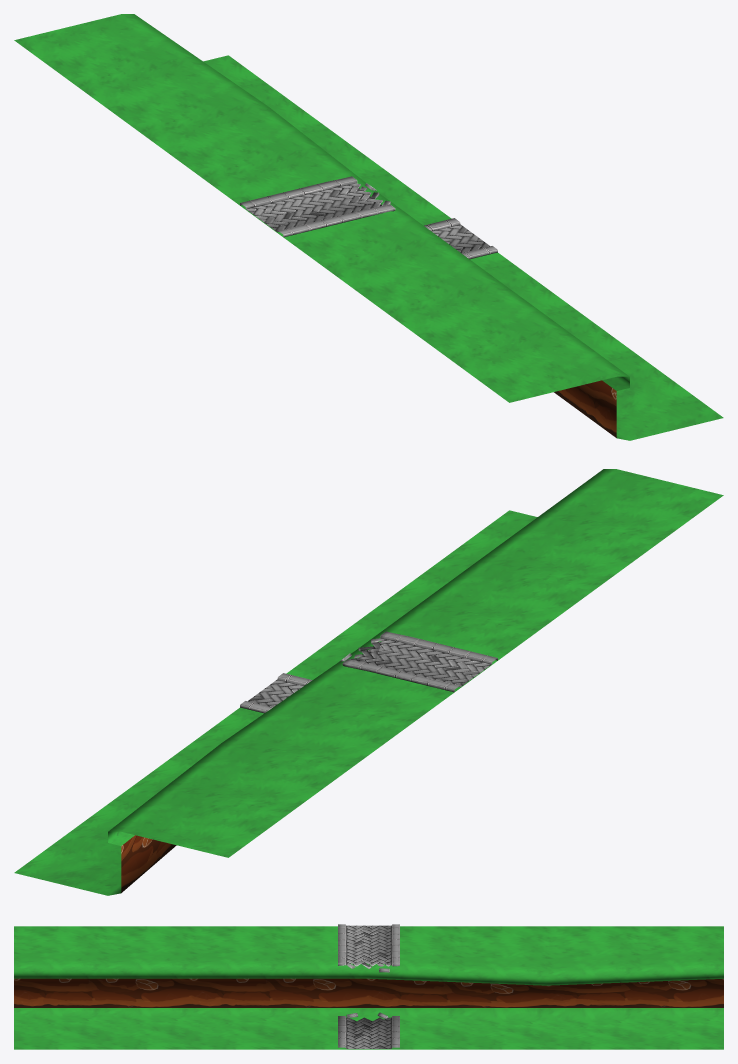
File: Terrain Broken Falling 3m.fbx
3 renders of one model, top to bottom at view 1: azimuth 30°, elevation 25°; view 2: azimuth 150°, elevation 25°; view 3: azimuth 270°, elevation 25°, orthographic. The views are drawn at different scales.
Parts seen in each view (by area): view 1: Terrain, Road; view 2: Terrain, Road; view 3: Terrain, Road.
Part boxes in pixels (bbox=[...]): Terrain: bbox=[14, 14, 723, 440]; Road: bbox=[240, 176, 497, 259]; Terrain: bbox=[14, 469, 723, 895]; Road: bbox=[240, 631, 497, 713]; Terrain: bbox=[14, 926, 723, 1049]; Road: bbox=[338, 924, 399, 1048].
Size of the model in its own units: 10 by 3.26 by 40.
